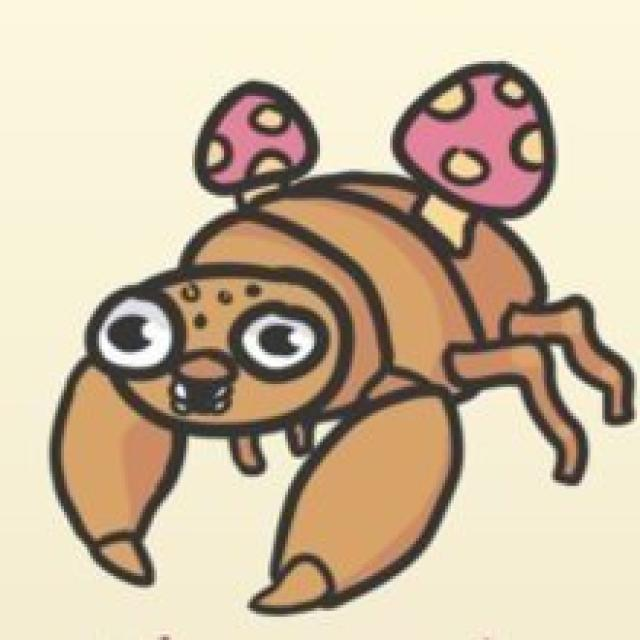Paras: (56, 59, 570, 542)
